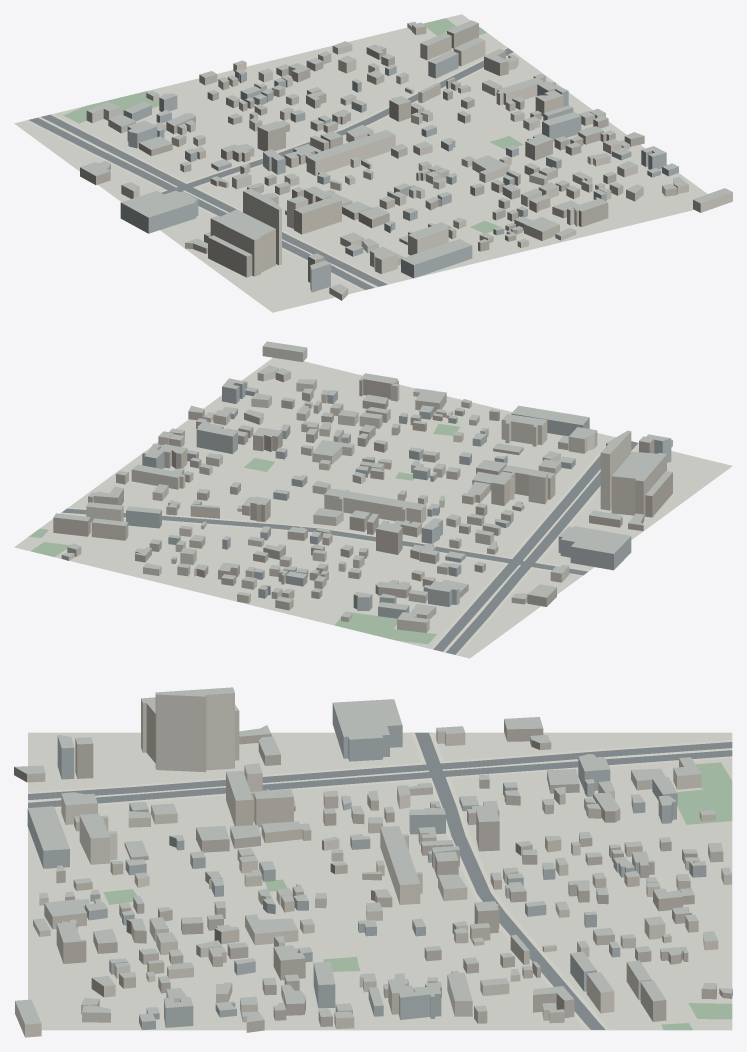
3 renders of one model, top to bottom at view 1: azimuth 30°, elevation 25°; view 2: azimuth 150°, elevation 25°; view 3: azimuth 270°, elevation 25°, orthographic. The views are drawn at different scales.
Visible parts, largest first — view 1: city; view 2: city; view 3: city.
Boxes of the visible parts, x1,y1,x2,y2 form: city: [14, 14, 732, 312]; city: [14, 341, 732, 658]; city: [14, 687, 732, 1037].
Size of the model in its own units: 532 by 59.2 by 511.
